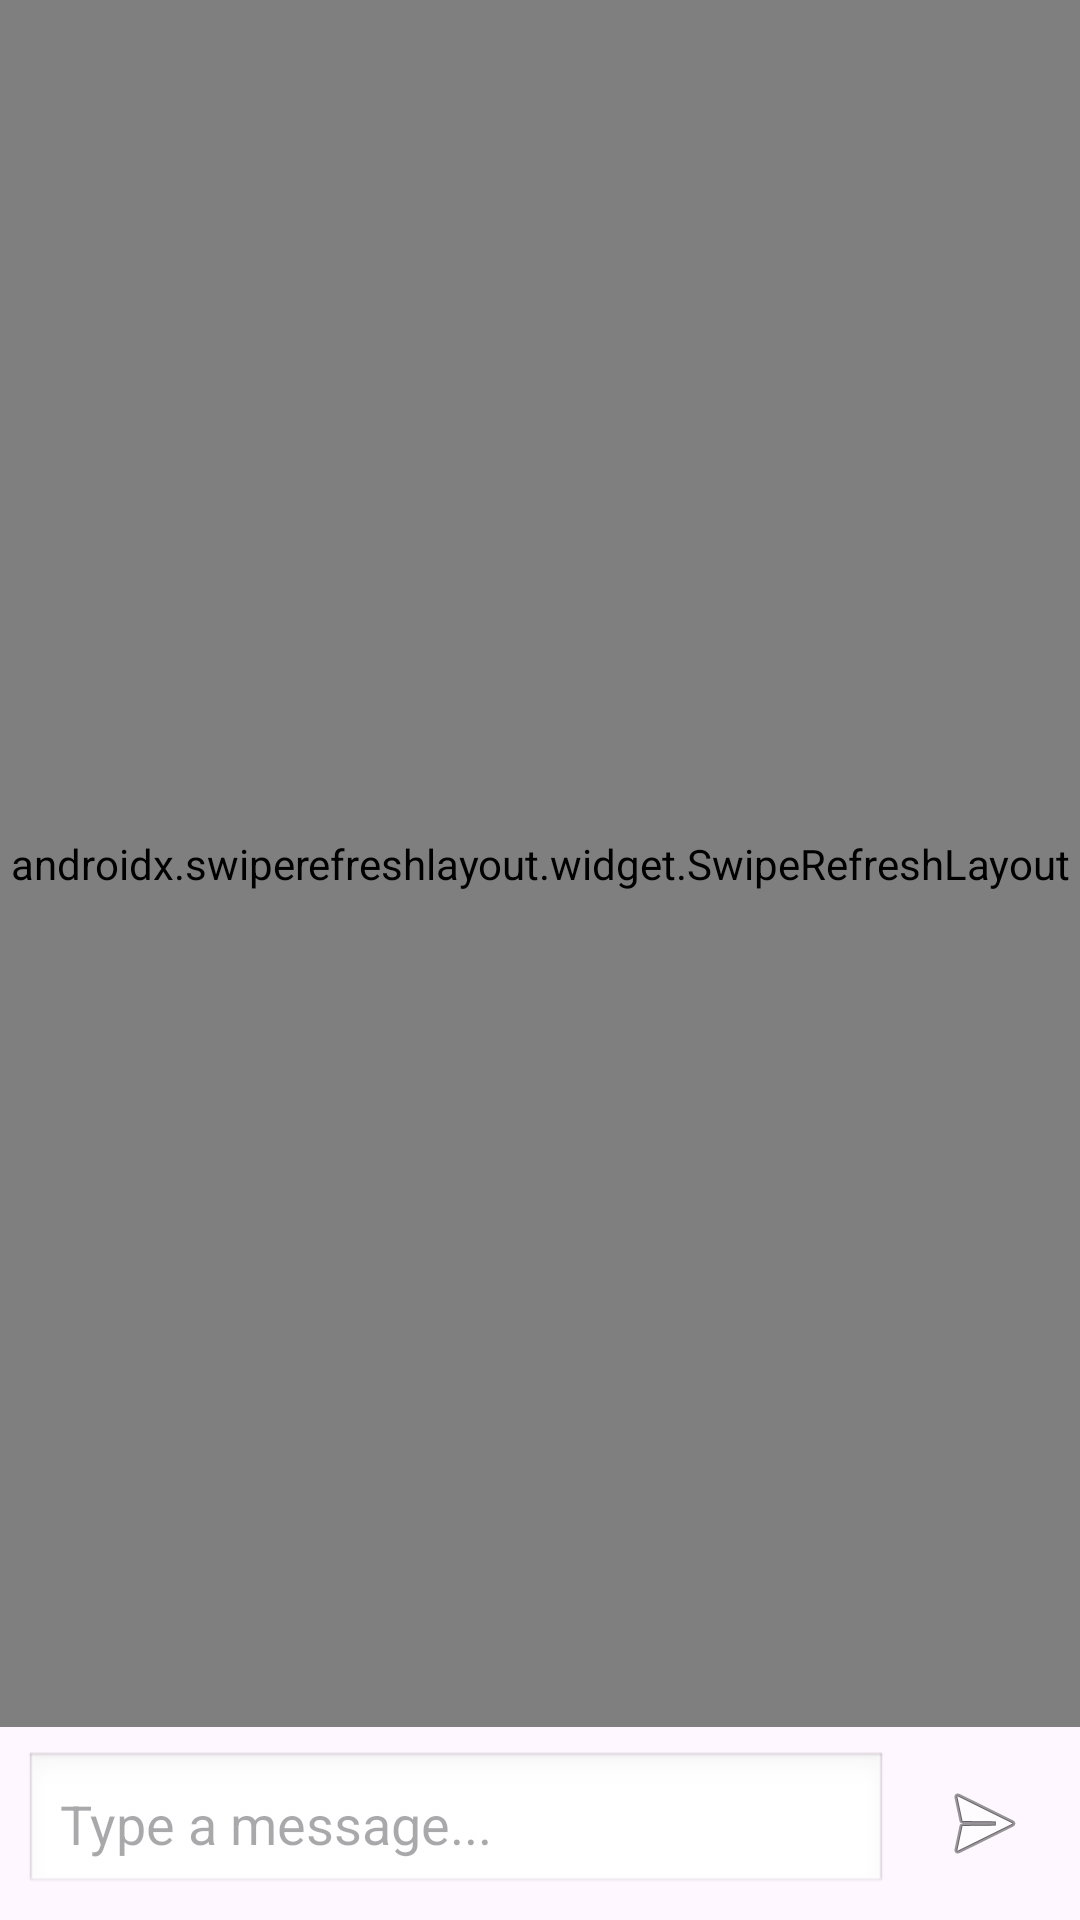

Icon bounding boxes for this 1080*1920 phone screenshot, format [left=x1, top=y1, right=x2, bottom=y2]:
Send message: [left=954, top=1793, right=1016, bottom=1854]
